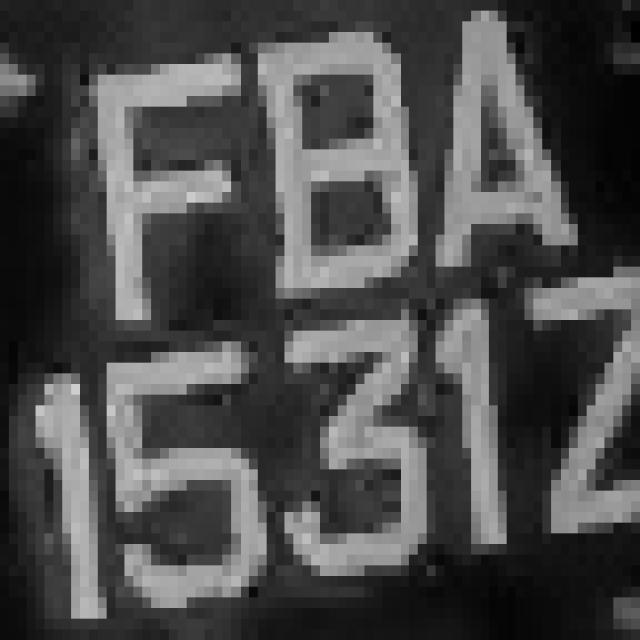1: (9, 331, 107, 629), (426, 288, 506, 576)
3: (284, 299, 418, 597)
5: (80, 341, 276, 640)
A: (409, 21, 587, 299)
B: (231, 11, 427, 320)
F: (71, 43, 231, 341)
Z: (522, 271, 640, 533), (7, 4, 9, 9)
